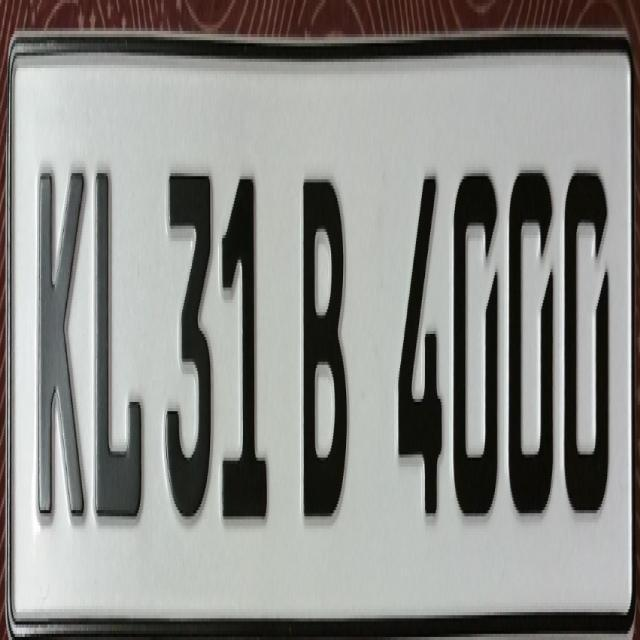0: (504, 158, 558, 534), (562, 155, 613, 541), (452, 152, 501, 532)
1: (218, 150, 272, 535)
3: (161, 152, 214, 541)
4: (392, 145, 448, 543)
B: (296, 150, 351, 564)
K: (32, 150, 88, 543)
L: (90, 150, 147, 556)
